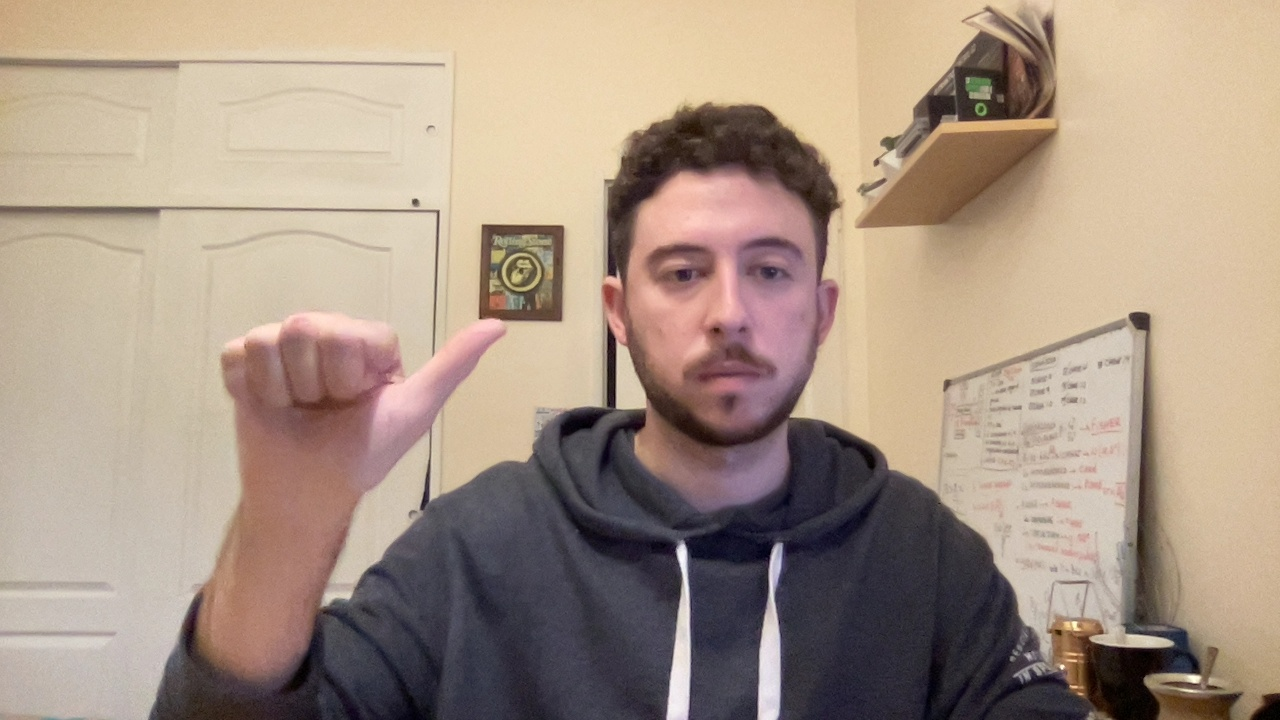pulgar: (193, 294, 533, 507)
